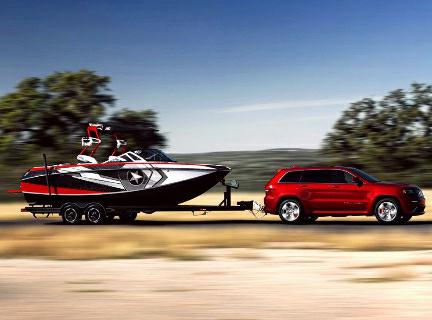Jeep-大切诺基SRT: (258, 163, 430, 228)
